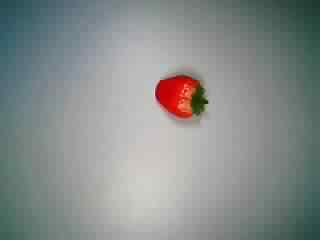strawberry: (141, 69, 214, 133)
